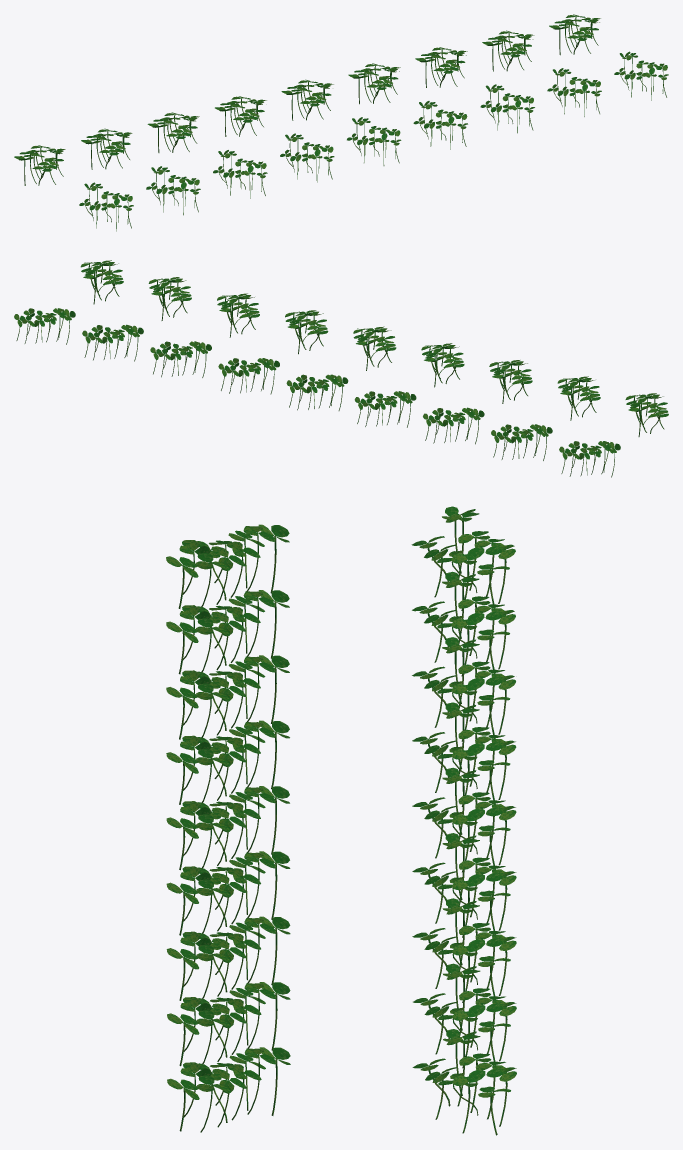
Rendered from Clover.fbx.
The picture shows the model from 3 angles, top to bottom: view 1: azimuth 30°, elevation 25°; view 2: azimuth 150°, elevation 25°; view 3: azimuth 270°, elevation 25°; orthographic projection. The views are drawn at different scales.
Parts seen in each view (by area): view 1: Clover; view 2: Clover; view 3: Clover.
Part boxes in pixels (x1,y1,x2,y2): Clover: (14, 14, 668, 231); Clover: (14, 260, 668, 477); Clover: (166, 506, 516, 1135).
Bounding box in the file's own units: 586 × 31.16 × 151.
